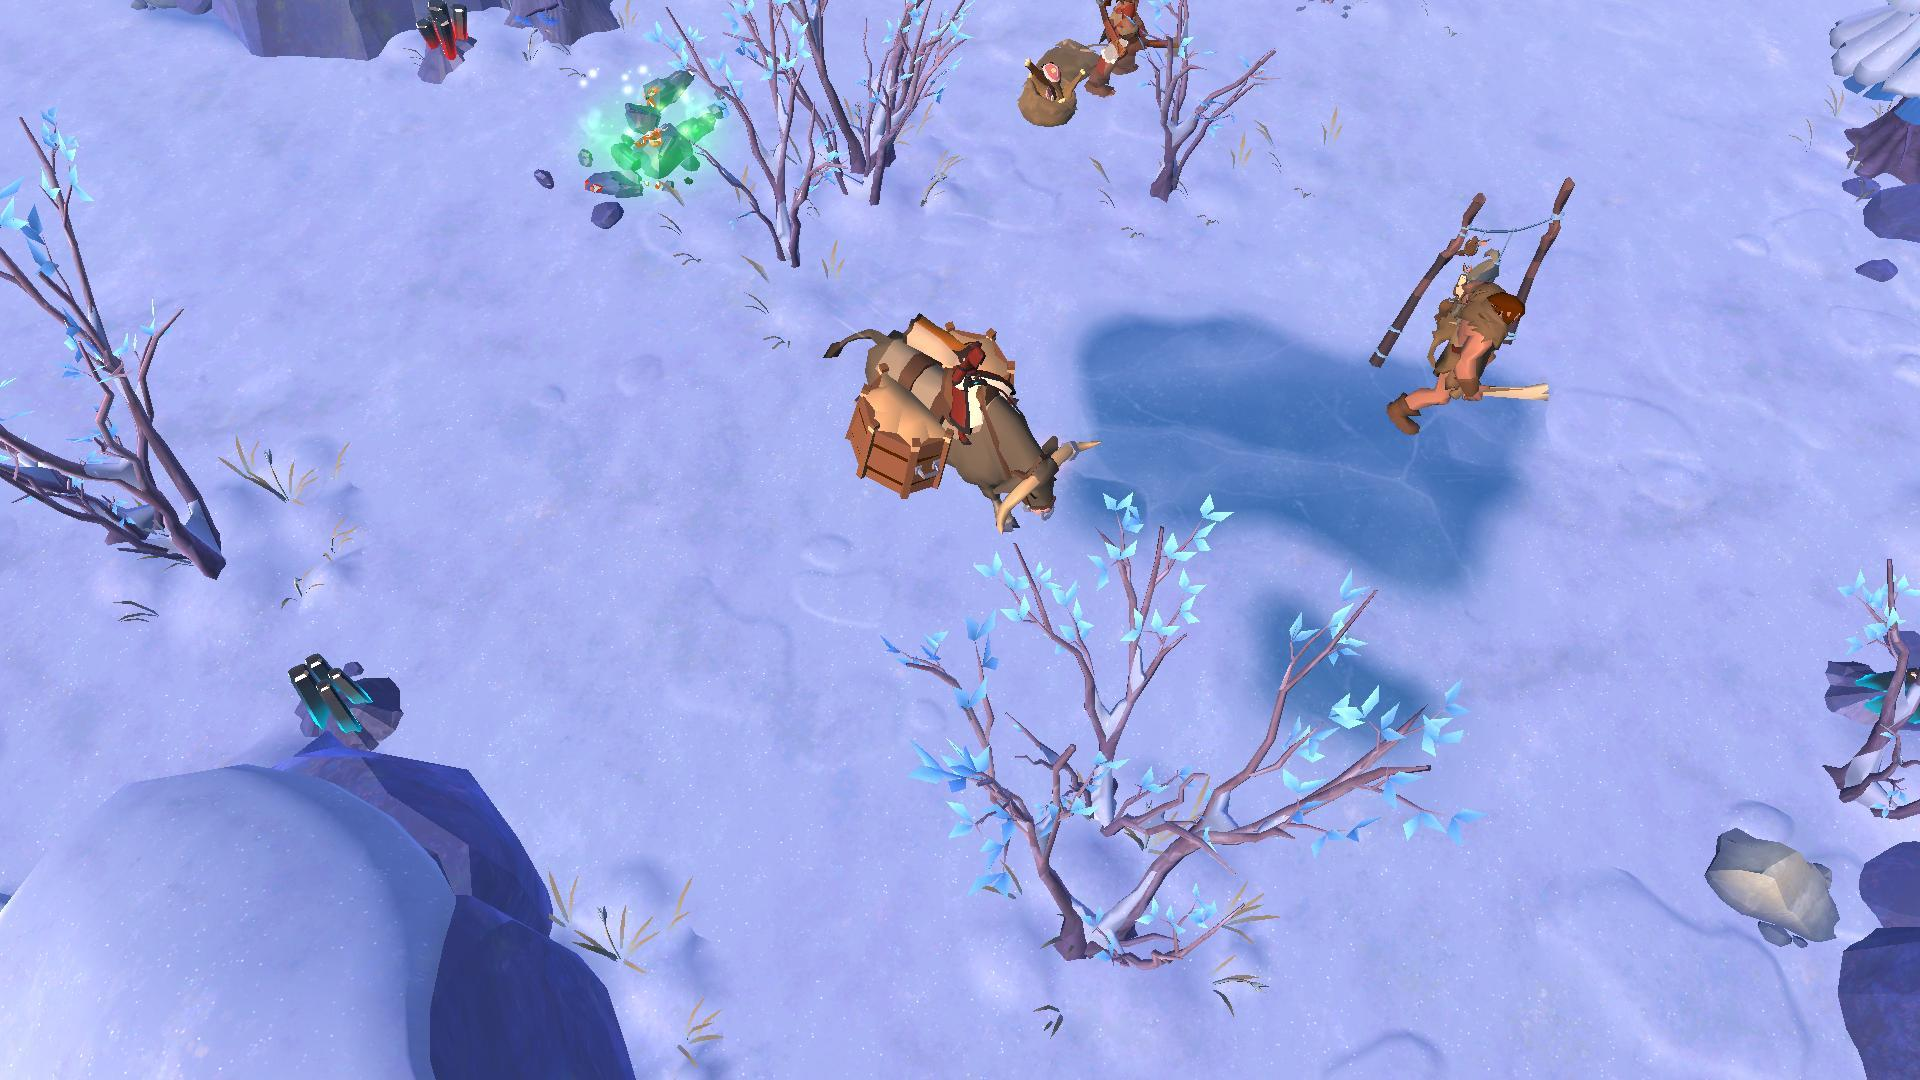enemy_factionKeeper: (1389, 282, 1527, 439), (1087, 0, 1166, 99)
ore_t4: (280, 649, 376, 736)
ore_t5: (407, 0, 475, 61)
